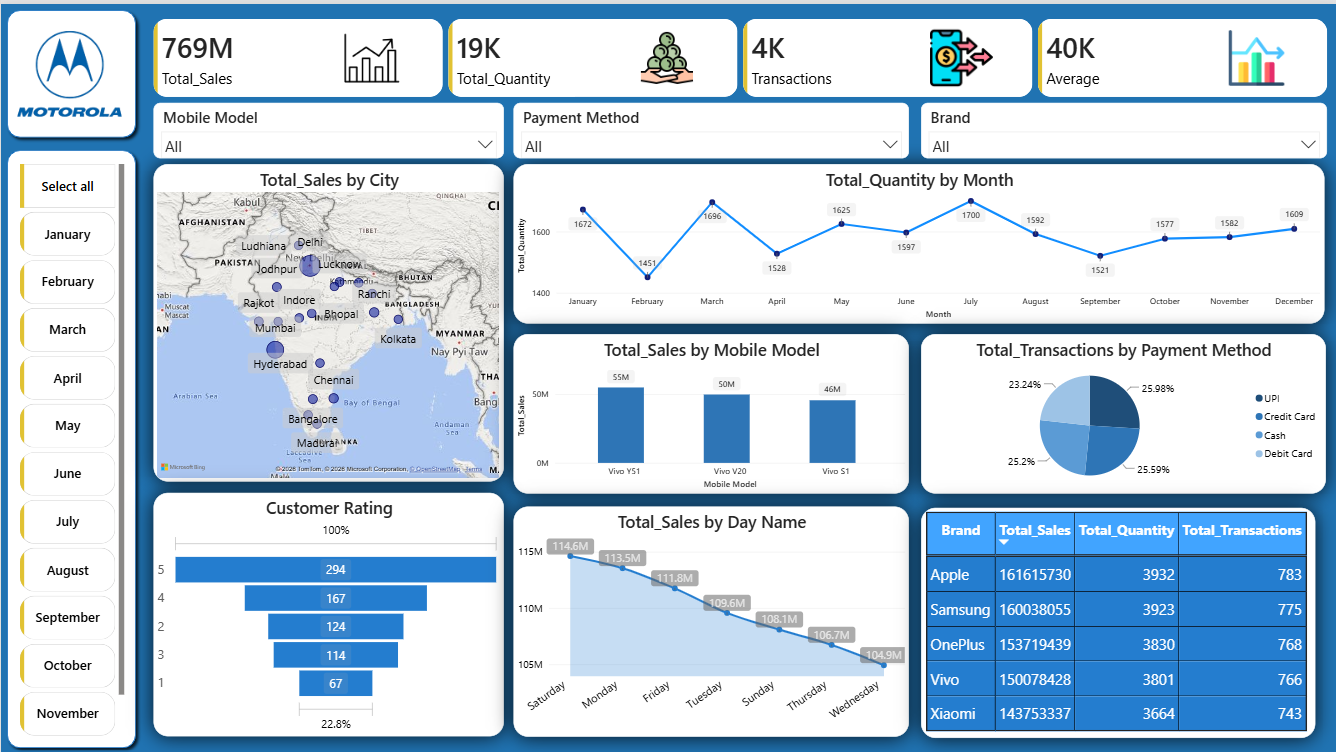

Layout of this report page (visuals, bound fields, positions):
{"tool":"powerbi","page":{"name":"Page 3","canvas":[1920,1080],"ordinal":2},"visuals":[{"type":"shape","box":[0,0,202.7,200.9],"z":0},{"type":"image","box":[23.5,0,150.2,200.9],"z":1},{"type":"shape","box":[0,200.9,202.7,877.7],"z":2},{"type":"cardVisual","fields":{"Data":["Mobile_Sales_Data.Total_Sales","Mobile_Sales_Data.Total_Quantity","Mobile_Sales_Data.Total_Transactions","Mobile_Sales_Data.Average"]},"box":[218.6,21.6,1688,112.5],"z":3},{"type":"advancedSlicerVisual","fields":{"Values":["Mobile_Sales_Data.Date.Variation.Date Hierarchy.Month"]},"box":[27.1,229.8,150.2,825.2],"z":4},{"type":"map","fields":{"Category":["Mobile_Sales_Data.City"],"Size":["Mobile_Sales_Data.Total_Sales"]},"box":[218.6,229.4,504.2,456.6],"z":5},{"type":"lineChart","fields":{"Category":["Mobile_Sales_Data.Date.Variation.Date Hierarchy.Month","Mobile_Sales_Data.Date.Variation.Date Hierarchy.Day"],"Y":["Mobile_Sales_Data.Total_Quantity"]},"box":[738,229.4,1166.5,229.4],"z":6},{"type":"clusteredColumnChart","fields":{"Category":["Mobile_Sales_Data.Mobile Model"],"Y":["Mobile_Sales_Data.Total_Sales"]},"box":[738,473.9,569.2,229.4],"z":7},{"type":"pieChart","fields":{"Category":["Mobile_Sales_Data.Payment Method"],"Y":["Mobile_Sales_Data.Total_Transactions"]},"box":[1322.3,473.9,582.2,229.4],"z":8},{"type":"funnel","title":" Customer Rating","fields":{"Category":["Mobile_Sales_Data.Customer Ratings"],"Y":["CountNonNull(Mobile_Sales_Data.Customer Ratings)"]},"box":[218.6,703.3,504.2,350.6],"z":9},{"type":"areaChart","fields":{"Category":["Mobile_Sales_Data.Day Name"],"Y":["Mobile_Sales_Data.Total_Sales"]},"box":[738,722.8,569.2,331.1],"z":10},{"type":"tableEx","fields":{"Values":["Mobile_Sales_Data.Brand","Mobile_Sales_Data.Total_Sales","Mobile_Sales_Data.Total_Quantity","Mobile_Sales_Data.Total_Transactions"]},"box":[1322.3,725,567,331.1],"z":11},{"type":"slicer","fields":{"Values":["Mobile_Sales_Data.Mobile Model"]},"box":[218.6,142.8,504.2,80.1],"z":12},{"type":"slicer","fields":{"Values":["Mobile_Sales_Data.Payment Method"]},"box":[738,142.8,569.2,80.1],"z":13},{"type":"slicer","fields":{"Values":["Mobile_Sales_Data.Brand"]},"box":[1322.3,142.8,584.3,80.1],"z":14}]}

Visuals, with their boxes in screenshot pixels (x1, y1, x2, y2), scaled from the page's 1920x1080 canvas onto the 1336x752 screenshot:
shape: x1=0 y1=0 x2=141 y2=140
image: x1=16 y1=0 x2=121 y2=140
shape: x1=0 y1=140 x2=141 y2=751
cardVisual - Mobile_Sales_Data.Total_Sales x Mobile_Sales_Data.Total_Quantity: x1=152 y1=15 x2=1327 y2=93
advancedSlicerVisual - Mobile_Sales_Data.Date.Variation.Date Hierarchy.Month: x1=19 y1=160 x2=123 y2=735
map - Mobile_Sales_Data.City x Mobile_Sales_Data.Total_Sales: x1=152 y1=160 x2=503 y2=478
lineChart - Mobile_Sales_Data.Date.Variation.Date Hierarchy.Month x Mobile_Sales_Data.Date.Variation.Date Hierarchy.Day: x1=514 y1=160 x2=1325 y2=319
clusteredColumnChart - Mobile_Sales_Data.Mobile Model x Mobile_Sales_Data.Total_Sales: x1=514 y1=330 x2=910 y2=490
pieChart - Mobile_Sales_Data.Payment Method x Mobile_Sales_Data.Total_Transactions: x1=920 y1=330 x2=1325 y2=490
" Customer Rating" funnel: x1=152 y1=490 x2=503 y2=734
areaChart - Mobile_Sales_Data.Day Name x Mobile_Sales_Data.Total_Sales: x1=514 y1=503 x2=910 y2=734
tableEx - Mobile_Sales_Data.Brand x Mobile_Sales_Data.Total_Sales: x1=920 y1=505 x2=1315 y2=735
slicer - Mobile_Sales_Data.Mobile Model: x1=152 y1=99 x2=503 y2=155
slicer - Mobile_Sales_Data.Payment Method: x1=514 y1=99 x2=910 y2=155
slicer - Mobile_Sales_Data.Brand: x1=920 y1=99 x2=1327 y2=155
